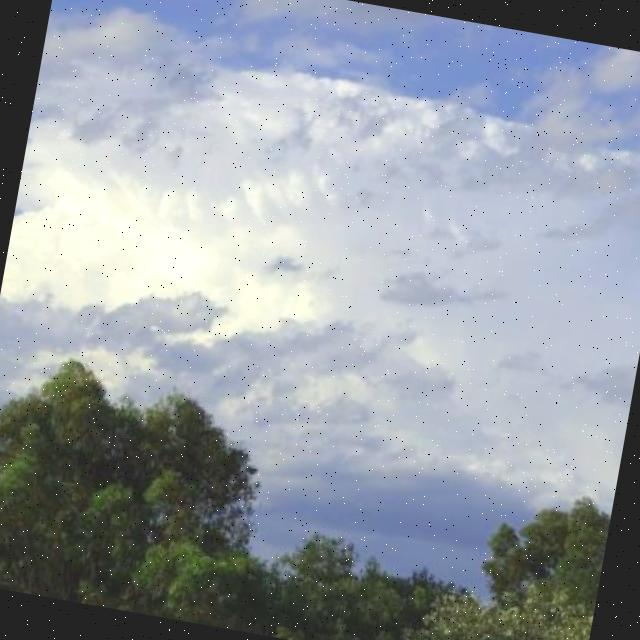Cb: (1, 1, 640, 450)
